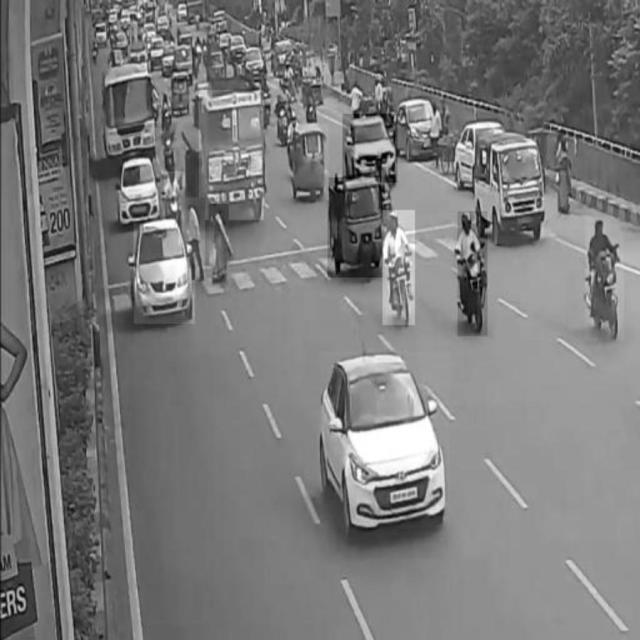person: (183, 198, 205, 280), (209, 204, 229, 290)
vehicle: (320, 352, 450, 528), (199, 90, 263, 220), (473, 137, 545, 237), (134, 223, 195, 324), (327, 178, 385, 278), (585, 218, 623, 340), (343, 114, 398, 182), (457, 212, 487, 336), (384, 210, 416, 324), (293, 124, 329, 200), (120, 156, 158, 222), (164, 172, 184, 233)
